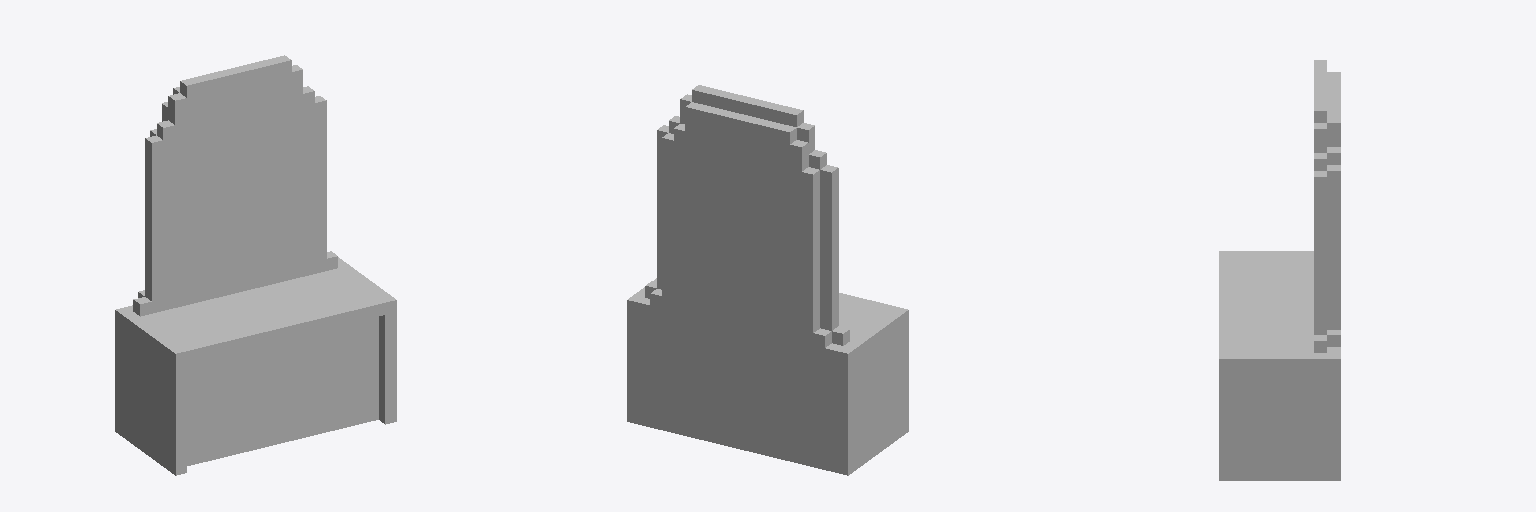
The model's file is dressing table.obj.
The picture shows the model from 3 angles: view 1: azimuth 30°, elevation 25°; view 2: azimuth 150°, elevation 25°; view 3: azimuth 270°, elevation 25°; orthographic projection.
Size of the model in its own units: 19 by 28 by 9.